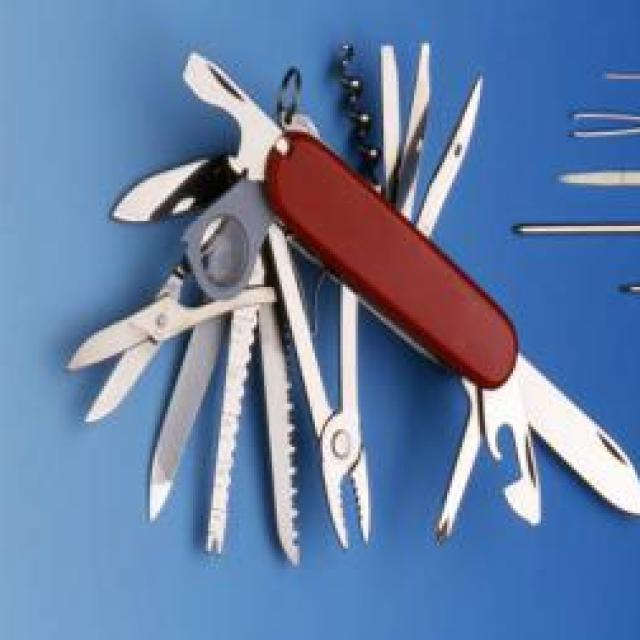knife: (487, 335, 640, 523), (140, 279, 249, 521), (412, 76, 485, 236), (429, 369, 492, 541), (399, 32, 434, 218), (381, 29, 396, 208)
